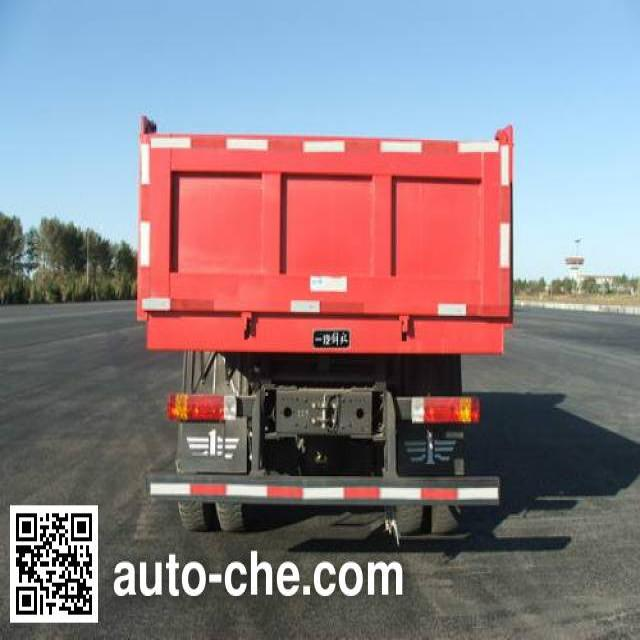overloaded: (134, 112, 516, 543)
